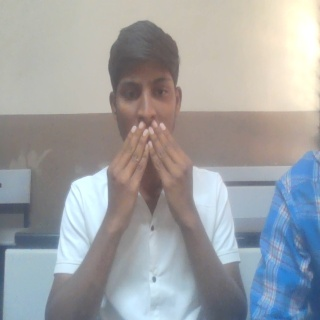Thank You: (104, 119, 202, 229)
